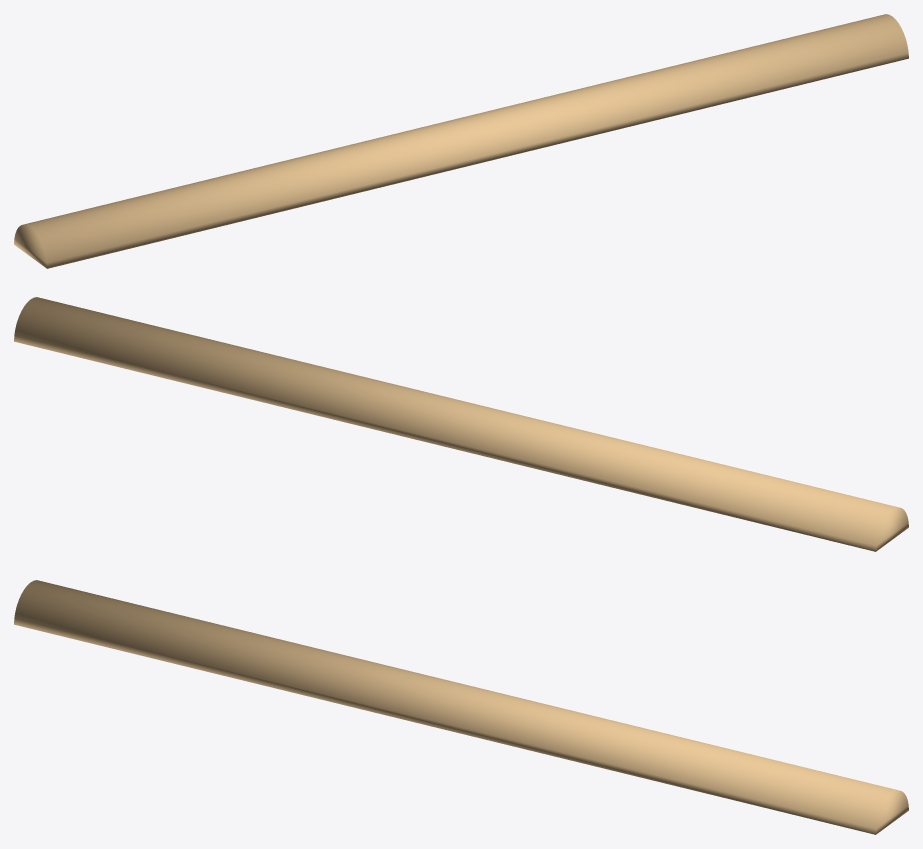
The model's file is plaha.fbx.
3 views of the same model, one above another, from view 1: azimuth 30°, elevation 25°; view 2: azimuth 150°, elevation 25°; view 3: azimuth 330°, elevation 25° (orthographic).
Parts seen in each view (by area): view 1: Cylinder; view 2: Cylinder; view 3: Cylinder.
Boxes of the visible parts, x1=… form: Cylinder: x1=14, y1=14, x2=908, y2=268; Cylinder: x1=14, y1=297, x2=908, y2=551; Cylinder: x1=14, y1=580, x2=908, y2=834.
Size of the model in its own units: 6 by 0.2 by 0.4.
